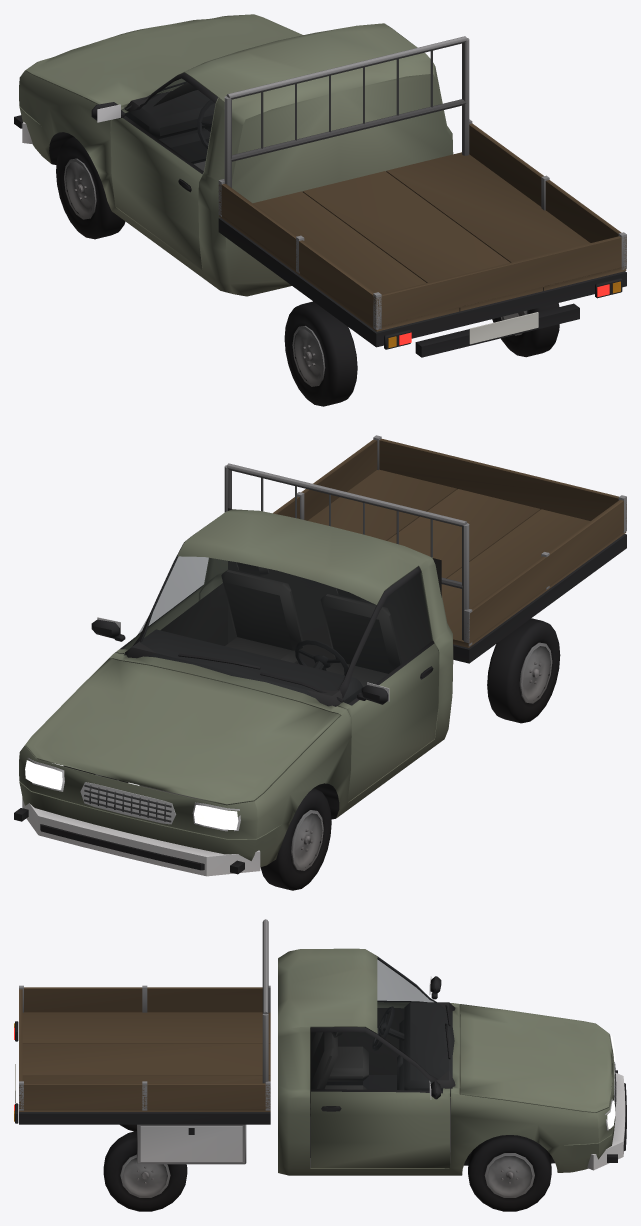
The model's file is farm_truck_a.glb.
3 renders of one model, top to bottom at view 1: azimuth 30°, elevation 25°; view 2: azimuth 150°, elevation 25°; view 3: azimuth 270°, elevation 25°, orthographic. The views are drawn at different scales.
Parts seen in each view (by area): view 1: farm_truck_a_body, wheel_rl, wheel_fl, wheel_rr; view 2: farm_truck_a_body, wheel_rl, wheel_fl, lamp_head_l, lamp_head_r; view 3: farm_truck_a_body, wheel_fr, wheel_rr.
Part boxes in pixels (box(x1,y1,x2,y2)): farm_truck_a_body: box(14, 14, 626, 357); wheel_rl: box(284, 301, 357, 406); wheel_fl: box(56, 137, 125, 239); wheel_rr: box(492, 303, 559, 357); farm_truck_a_body: box(14, 435, 626, 876); wheel_rl: box(487, 618, 560, 723); wheel_fl: box(260, 788, 331, 890); lamp_head_l: box(194, 805, 238, 829); lamp_head_r: box(25, 760, 62, 789); farm_truck_a_body: box(14, 919, 626, 1175); wheel_fr: box(468, 1135, 551, 1211); wheel_rr: box(103, 1131, 187, 1211).
Size of what is drawn, in the model's own units: 2.24 by 1.85 by 5.05.
